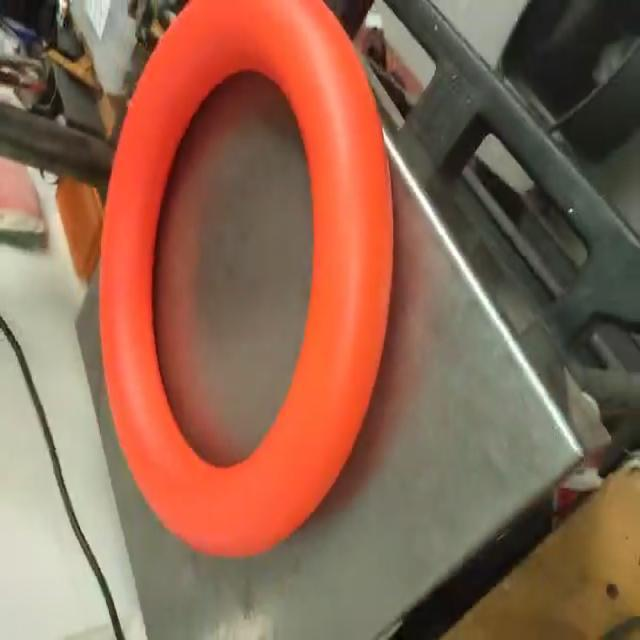note: (94, 3, 398, 561)
